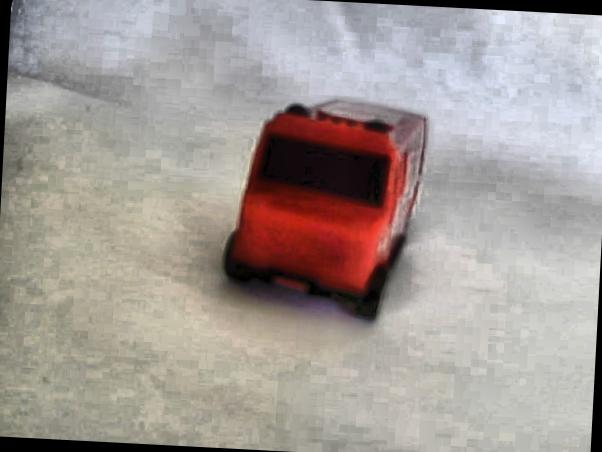fire_truck: (224, 93, 428, 330)
